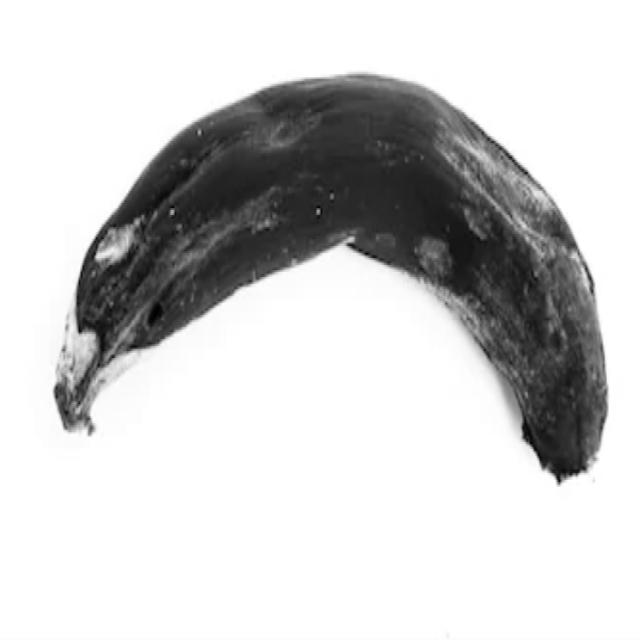Rotten: (39, 59, 617, 548)
